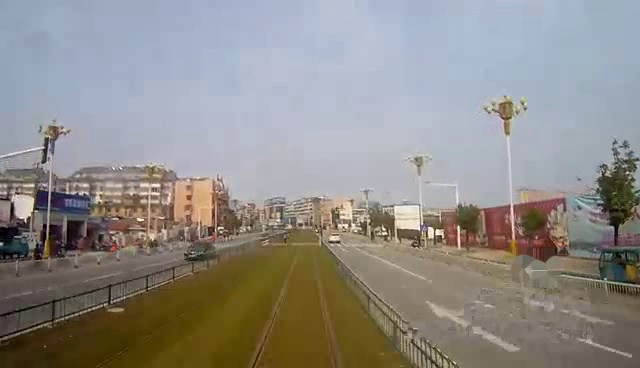car: (182, 239, 226, 260), (326, 231, 343, 245)
